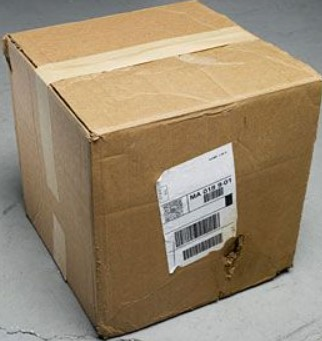stock: (9, 3, 322, 337)
